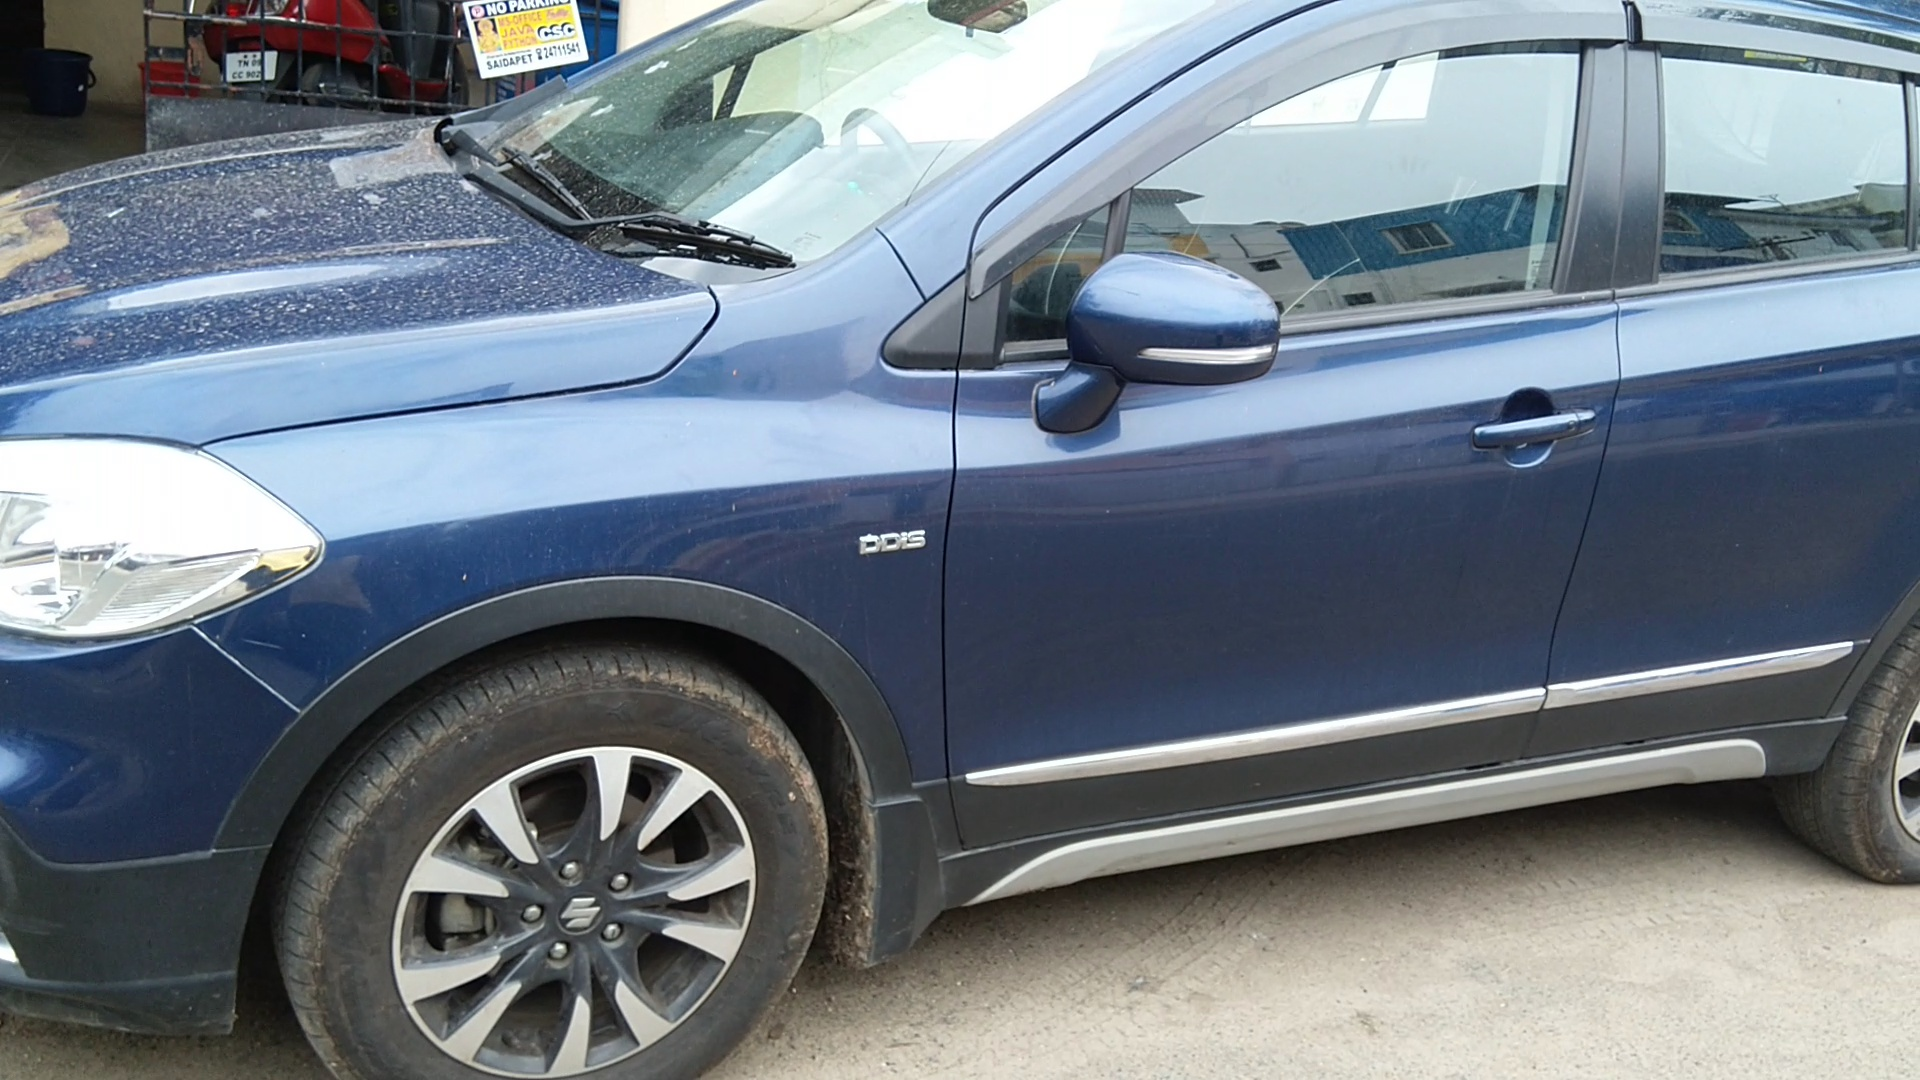alloy_wheel: (297, 661, 811, 1080)
headlamp: (1, 425, 378, 702)
ovr_mirror: (1040, 231, 1303, 446)
